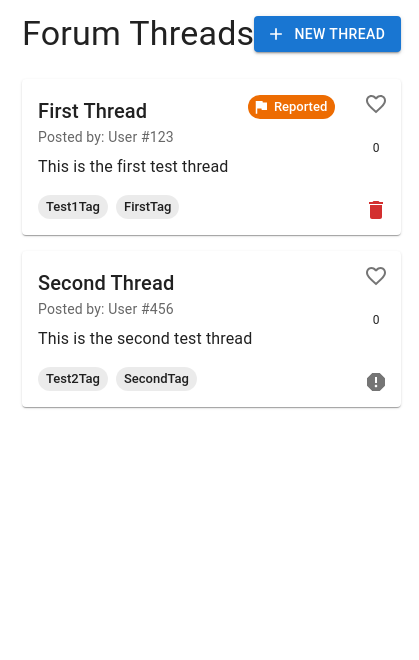
Test: ThreadListPage › deletes a thread when delete button is clicked
The image size is (419, 660).
What coordinates should you click on to do the following:
click the button named "delete thread"
I would click on:
 (376, 210)
Its box is [359,193,393,227].
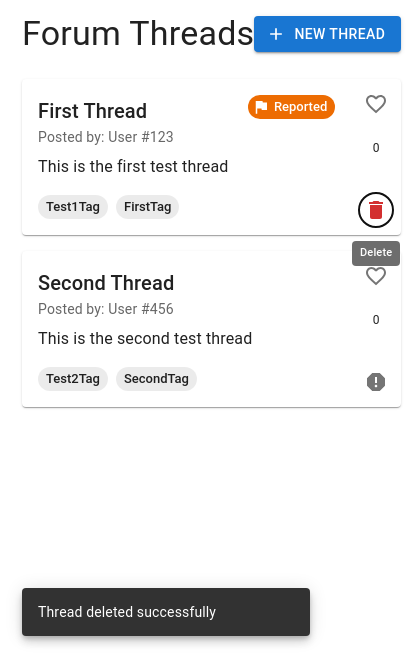
Expected: the text "Thread deleted successfully" is shown, [38,604,216,620]
